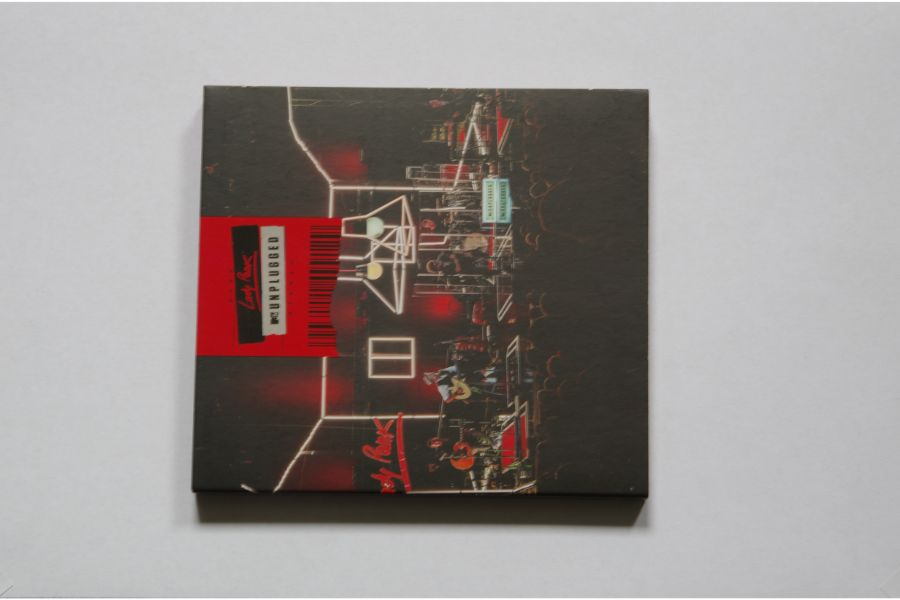album: (192, 84, 652, 497)
